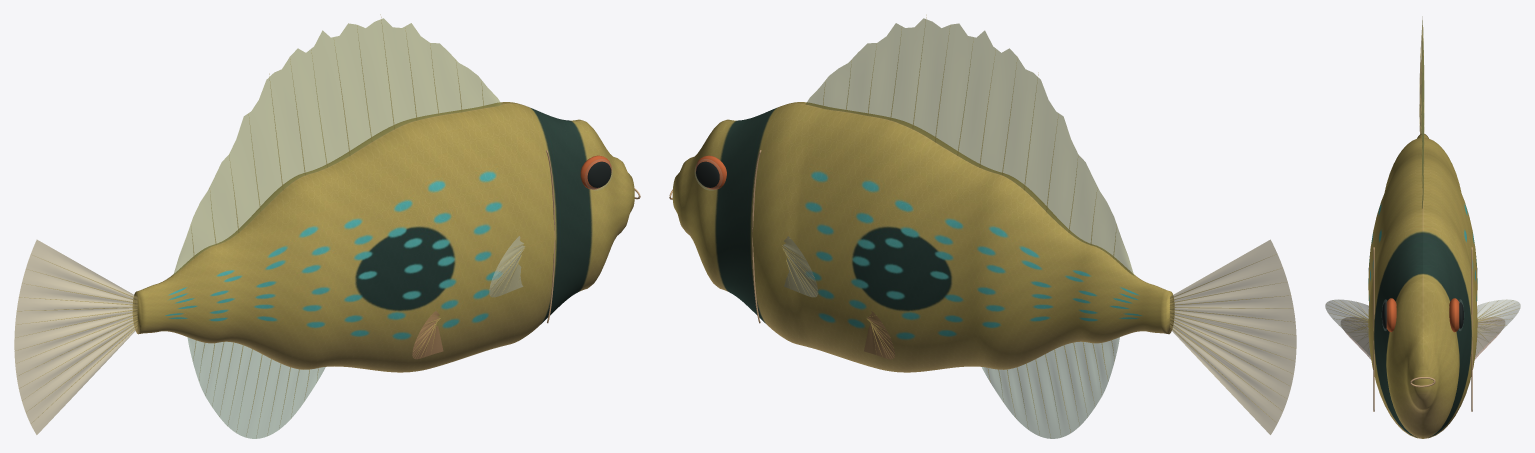
File: ram-desktop.glb
3 renders of one model, left to right at view 1: azimuth 30°, elevation 25°; view 2: azimuth 150°, elevation 25°; view 3: azimuth 270°, elevation 25°, orthographic. The views are drawn at different scales.
Visible parts, largest first — view 1: skin, dorsal, tail, anal, dorsal-ray, pectoral-left, pelvic-left; view 2: skin, dorsal, tail, anal, dorsal-ray, pectoral-left, pelvic-left; view 3: skin, pectoral-left, pelvic-left, dorsal-ray, operculum, eye-iris--1, dorsal, tail, eye-pupil--1.
Boxes of the visible parts, left/top/right/bottom form: skin: left=133, top=102, right=634, bottom=372; dorsal: left=173, top=18, right=501, bottom=275; tail: left=14, top=240, right=137, bottom=434; anal: left=187, top=337, right=325, bottom=438; dorsal-ray: left=17, top=14, right=525, bottom=435; pectoral-left: left=489, top=236, right=524, bottom=297; pelvic-left: left=412, top=311, right=443, bottom=359; skin: left=672, top=102, right=1174, bottom=372; dorsal: left=805, top=18, right=1133, bottom=275; tail: left=1170, top=239, right=1296, bottom=434; anal: left=982, top=337, right=1119, bottom=438; dorsal-ray: left=782, top=15, right=1294, bottom=437; pectoral-left: left=783, top=236, right=818, bottom=297; pelvic-left: left=864, top=311, right=894, bottom=359; skin: left=1368, top=134, right=1477, bottom=438; pectoral-left: left=1325, top=299, right=1520, bottom=356; pelvic-left: left=1341, top=317, right=1504, bottom=359; dorsal-ray: left=1326, top=20, right=1519, bottom=350; operculum: left=1373, top=247, right=1472, bottom=411; eye-iris--1: left=1386, top=298, right=1459, bottom=332; dorsal: left=1421, top=21, right=1424, bottom=208; tail: left=1419, top=16, right=1422, bottom=133; eye-pupil--1: left=1382, top=302, right=1463, bottom=328.
Size of the model in its own units: 0.5972 by 0.3627 by 0.1718.
11 materials, 1 textured.
